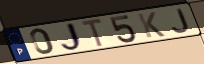0: (29, 28, 55, 56)
5: (107, 14, 138, 44)
J: (60, 22, 86, 53), (171, 8, 191, 34)
K: (136, 11, 168, 39)
T: (80, 17, 105, 49)
